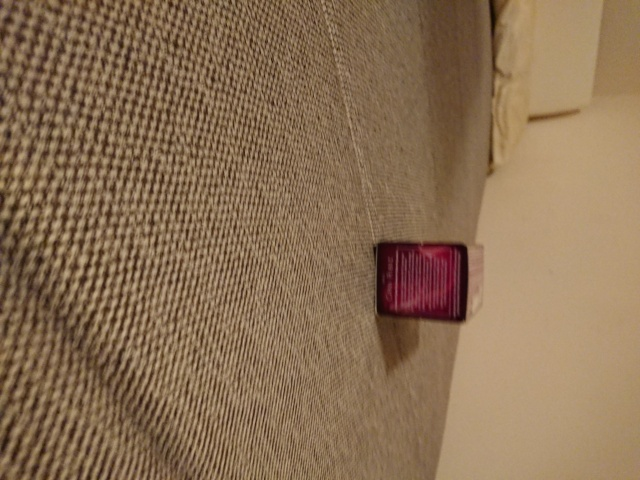Franck Black Currant Tea 60g: (370, 238, 488, 326)
